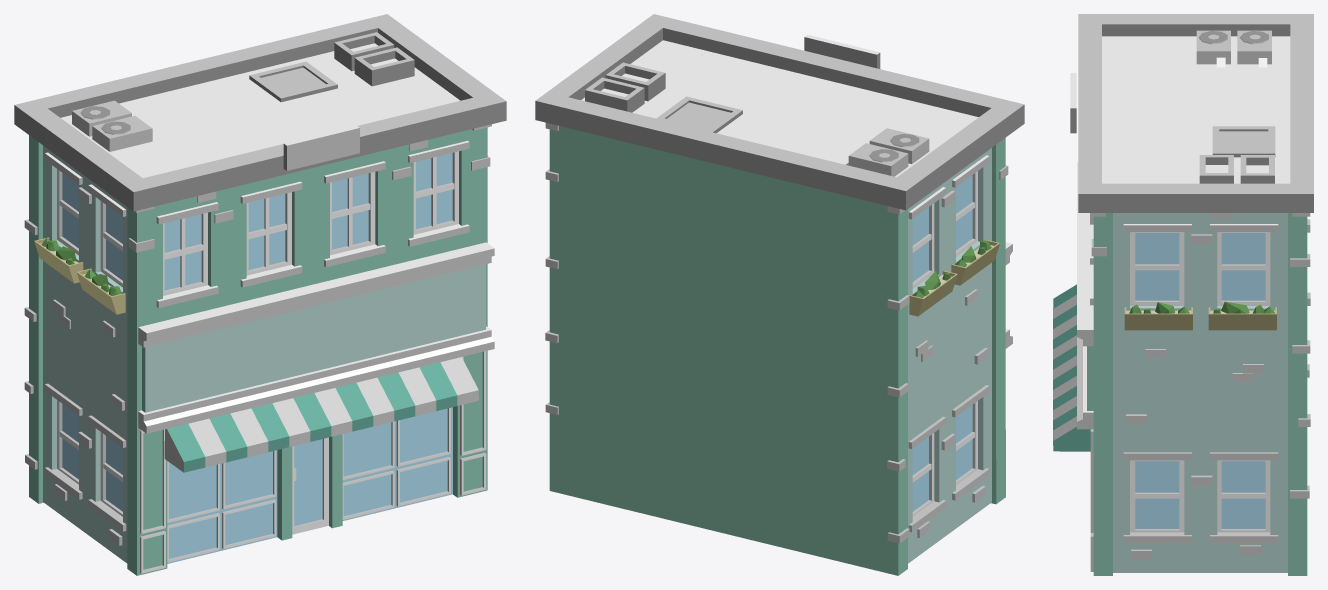
Rendered from house_small_2_007.fbx.
3 renders of one model, left to right at view 1: azimuth 30°, elevation 25°; view 2: azimuth 150°, elevation 25°; view 3: azimuth 270°, elevation 25°, orthographic.
Visible parts, largest first — view 1: house_small_2_007; view 2: house_small_2_007; view 3: house_small_2_007.
Boxes of the visible parts, <box> form: house_small_2_007: <box>14,14,506,575</box>; house_small_2_007: <box>535,14,1024,575</box>; house_small_2_007: <box>1053,14,1313,575</box>.
Size of the model in its own units: 720 by 748 by 442.
